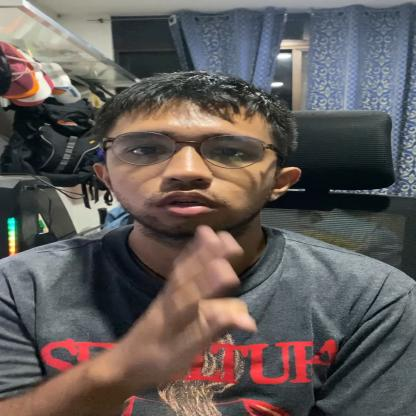Talk: (85, 65, 349, 395)
